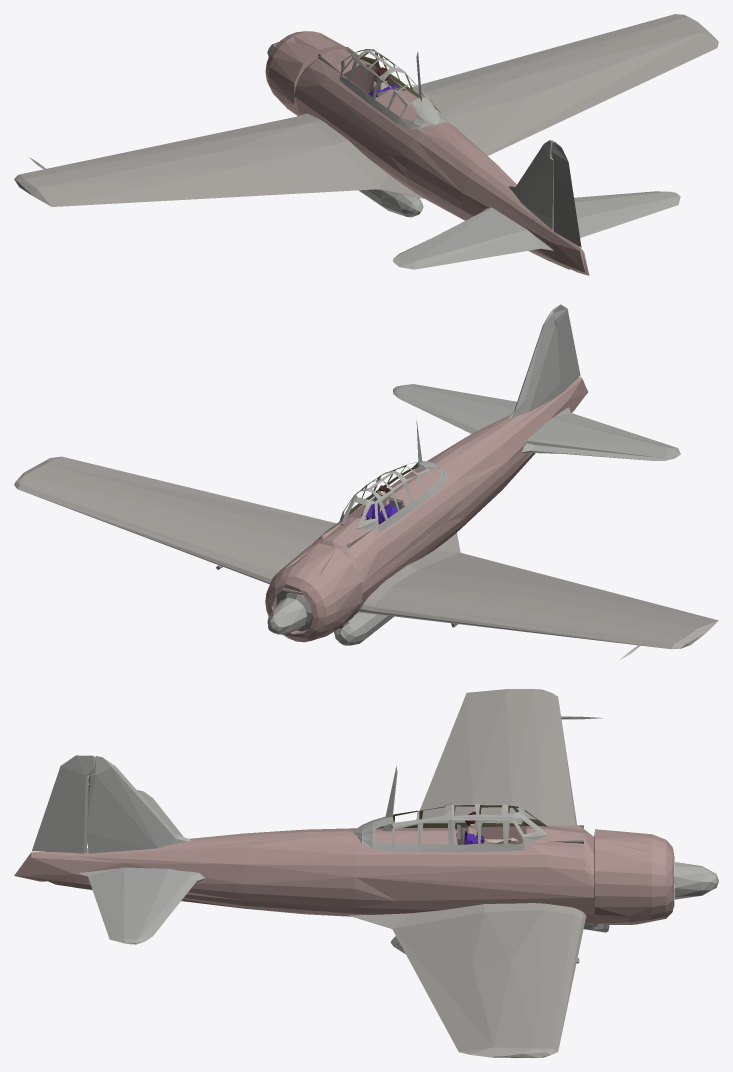
The model's file is zero_lod.glb.
3 views of the same model, one above another, from view 1: azimuth 30°, elevation 25°; view 2: azimuth 150°, elevation 25°; view 3: azimuth 270°, elevation 25° (orthographic). The views are drawn at different scales.
Visible parts, largest first — view 1: body; view 2: body; view 3: body.
Part boxes in pixels (x1,y1,x2,y2): body: [14, 14, 718, 275]; body: [14, 304, 718, 659]; body: [14, 689, 718, 1057].
Bounding box in the file's own units: 11.14 × 2.96 × 9.06.
